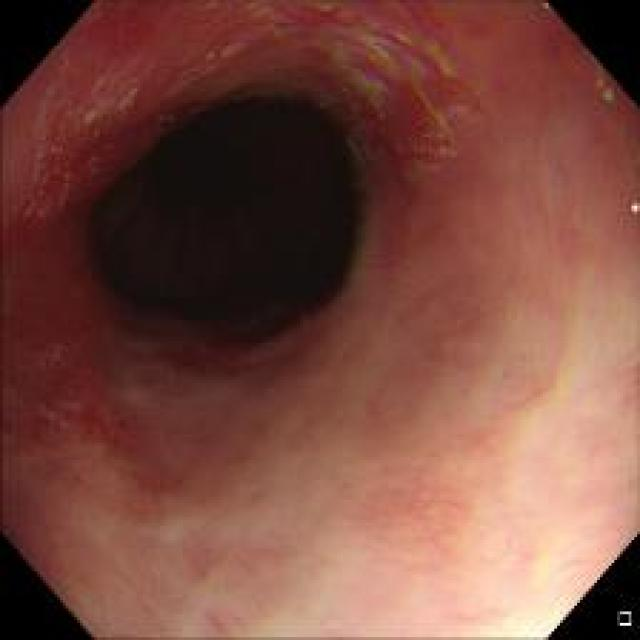color misalignment: (326, 10, 468, 172), (319, 104, 380, 268), (588, 56, 616, 105), (629, 195, 638, 214), (538, 1, 554, 10)
contrast: (70, 76, 385, 349)
